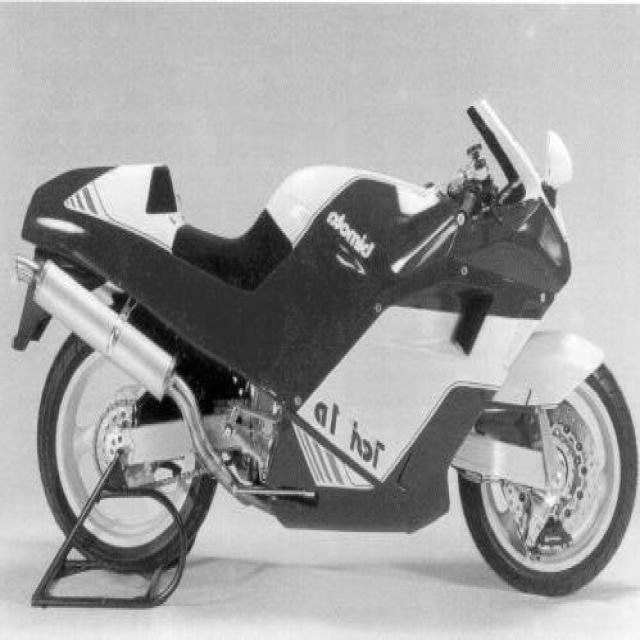Motorcycle: (13, 98, 639, 605)
